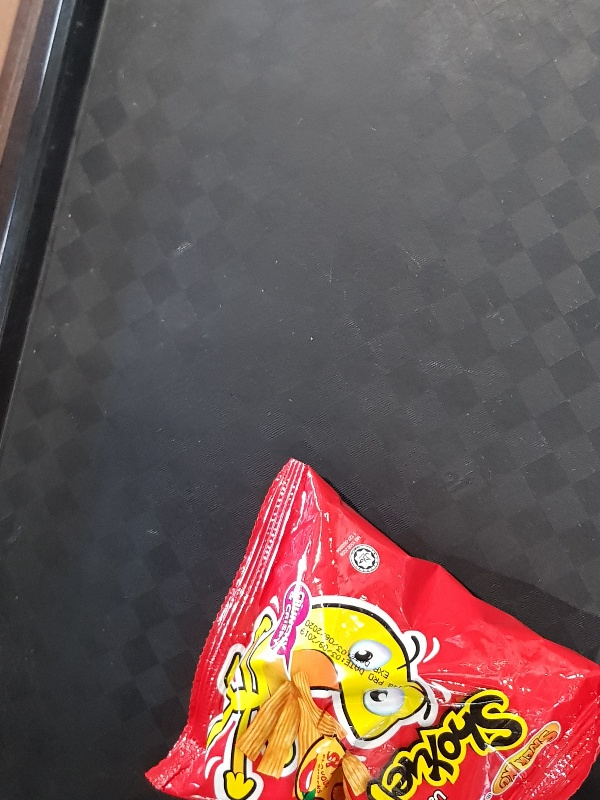ShoyueMi Spicy Flavoured Snacks: (143, 459, 599, 800)
